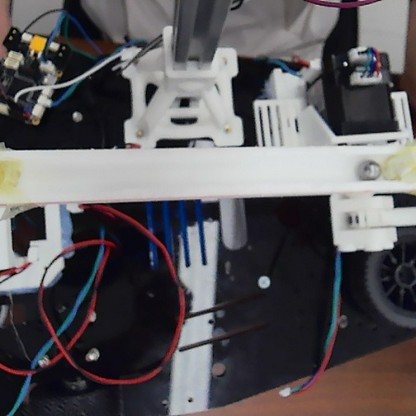ironball: (353, 156, 380, 182)
